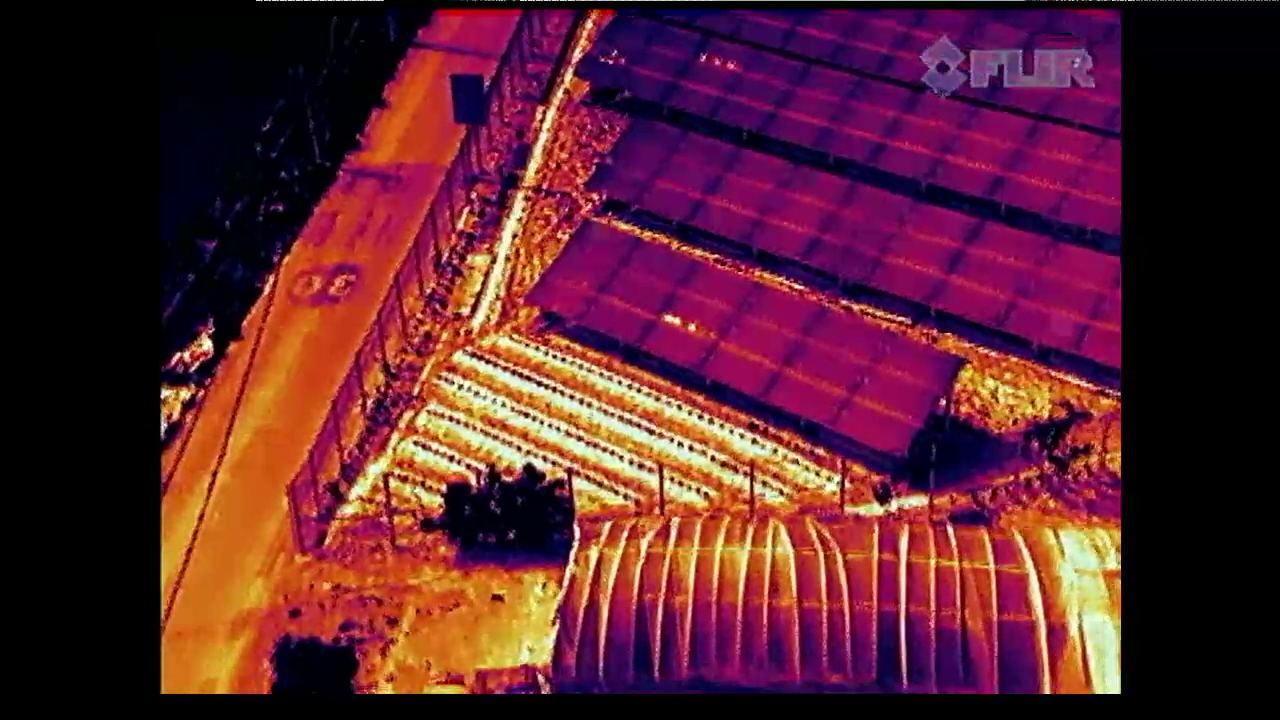hotspot: (640, 256, 756, 370), (662, 37, 751, 119), (567, 15, 659, 88)
